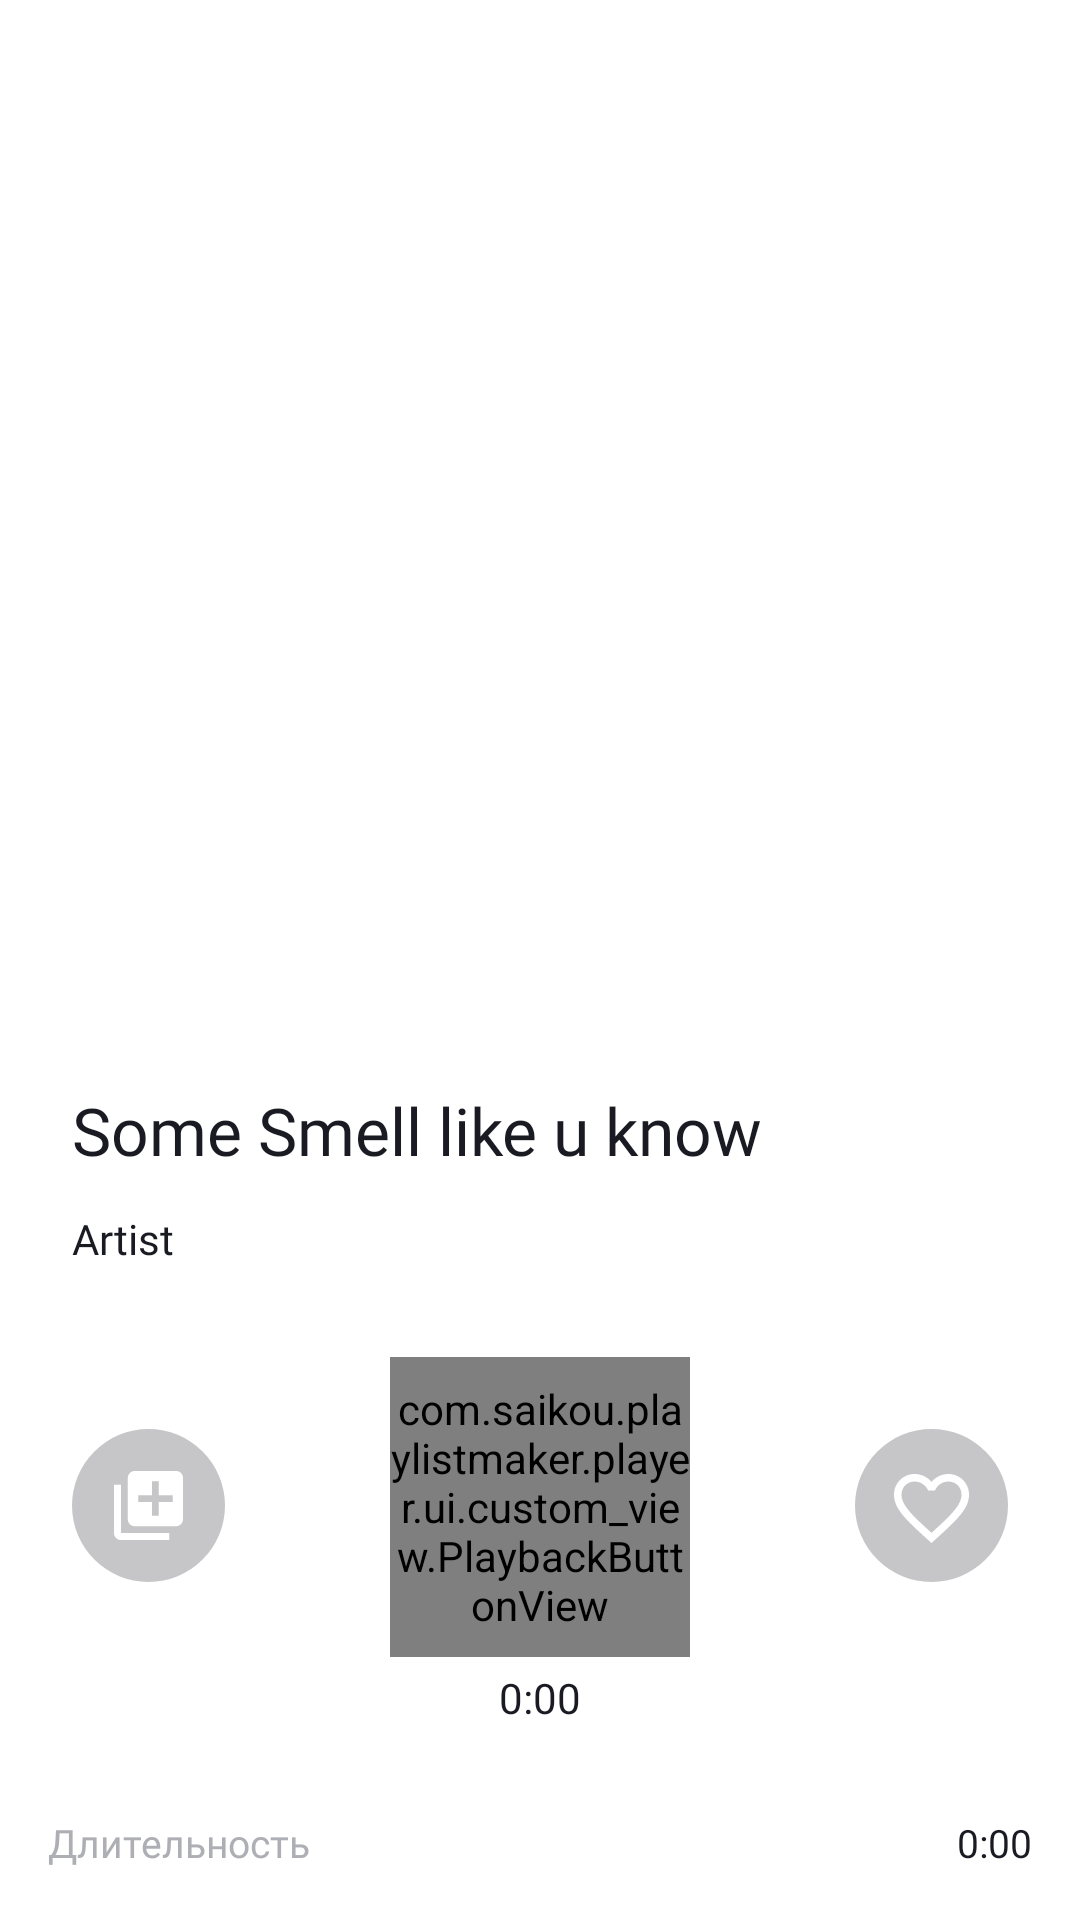

Named icons in this screenshot (1080px×1920px) and their centers, [x,y]:
favorite not toggled: [931,1505]
